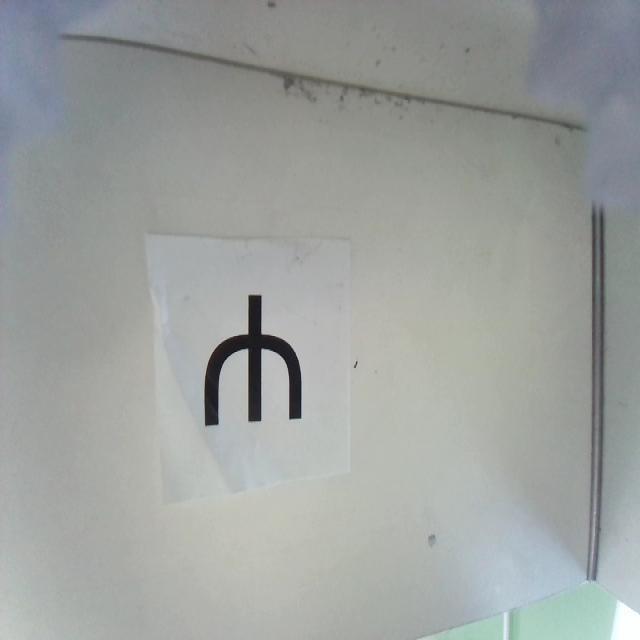nedoF: (203, 293, 303, 429)
